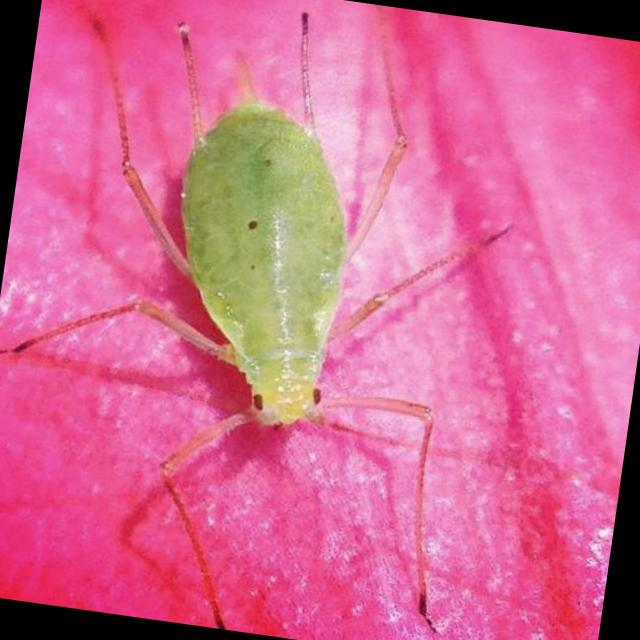aphid: (133, 81, 464, 459)
